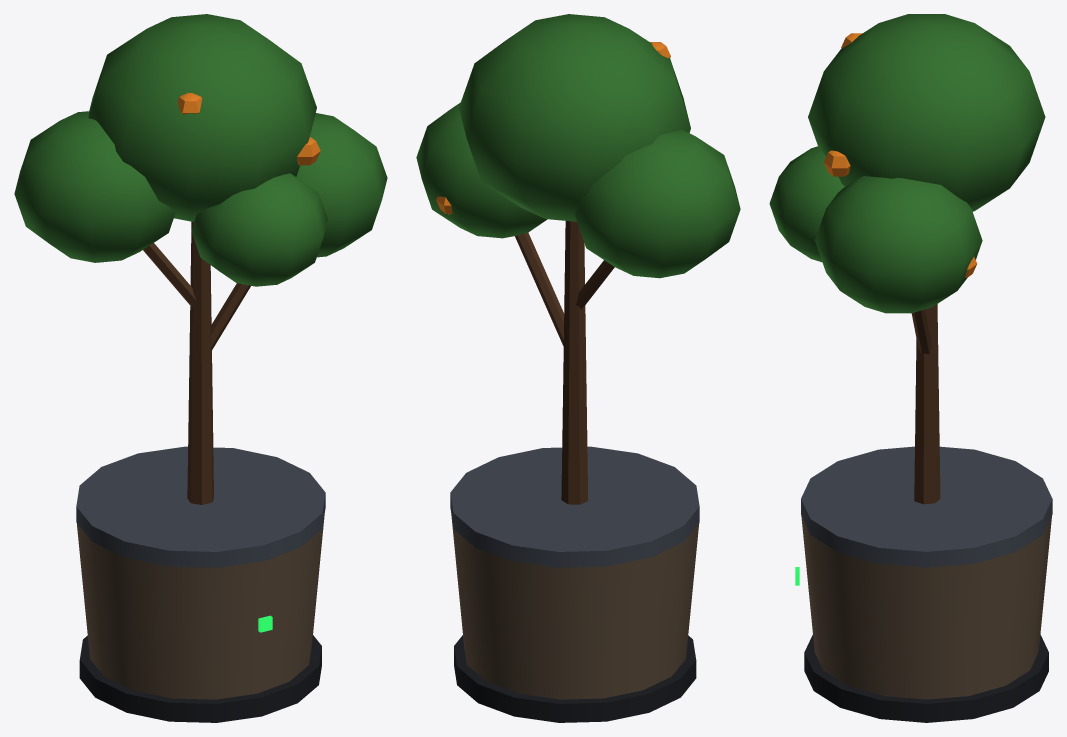
Rendered from planter_dwarf_tree_tub.glb.
3 views of the same model, side by side, from view 1: azimuth 30°, elevation 25°; view 2: azimuth 150°, elevation 25°; view 3: azimuth 270°, elevation 25° (orthographic).
Visible parts, largest first — view 1: planter_dwarf_tree_tub; view 2: planter_dwarf_tree_tub; view 3: planter_dwarf_tree_tub.
Boxes of the visible parts, x1,y1,x2,y2 form: planter_dwarf_tree_tub: [14, 14, 387, 722]; planter_dwarf_tree_tub: [416, 14, 740, 722]; planter_dwarf_tree_tub: [769, 14, 1052, 722].
Bounding box in the file's own units: 1.07 × 2.04 × 0.81.
